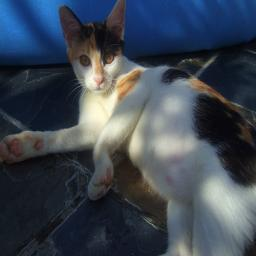catnose: (93, 75, 105, 88)
